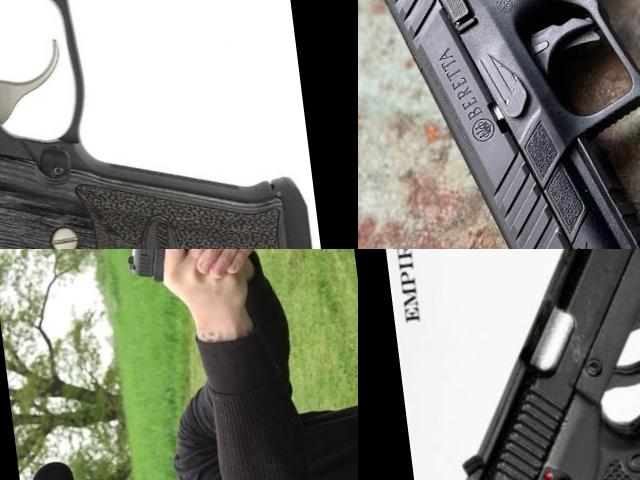handgun: (0, 0, 316, 249), (358, 0, 640, 249), (420, 249, 640, 480), (113, 249, 212, 311), (5, 249, 83, 285)
